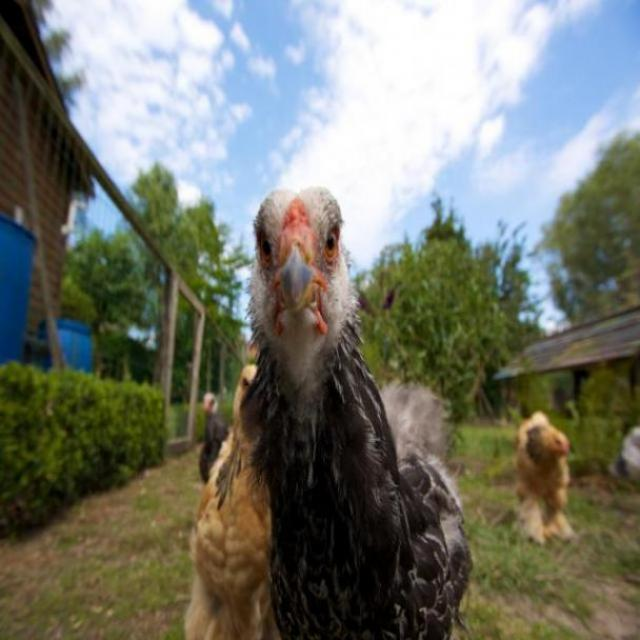Chicken: (194, 183, 470, 640)
